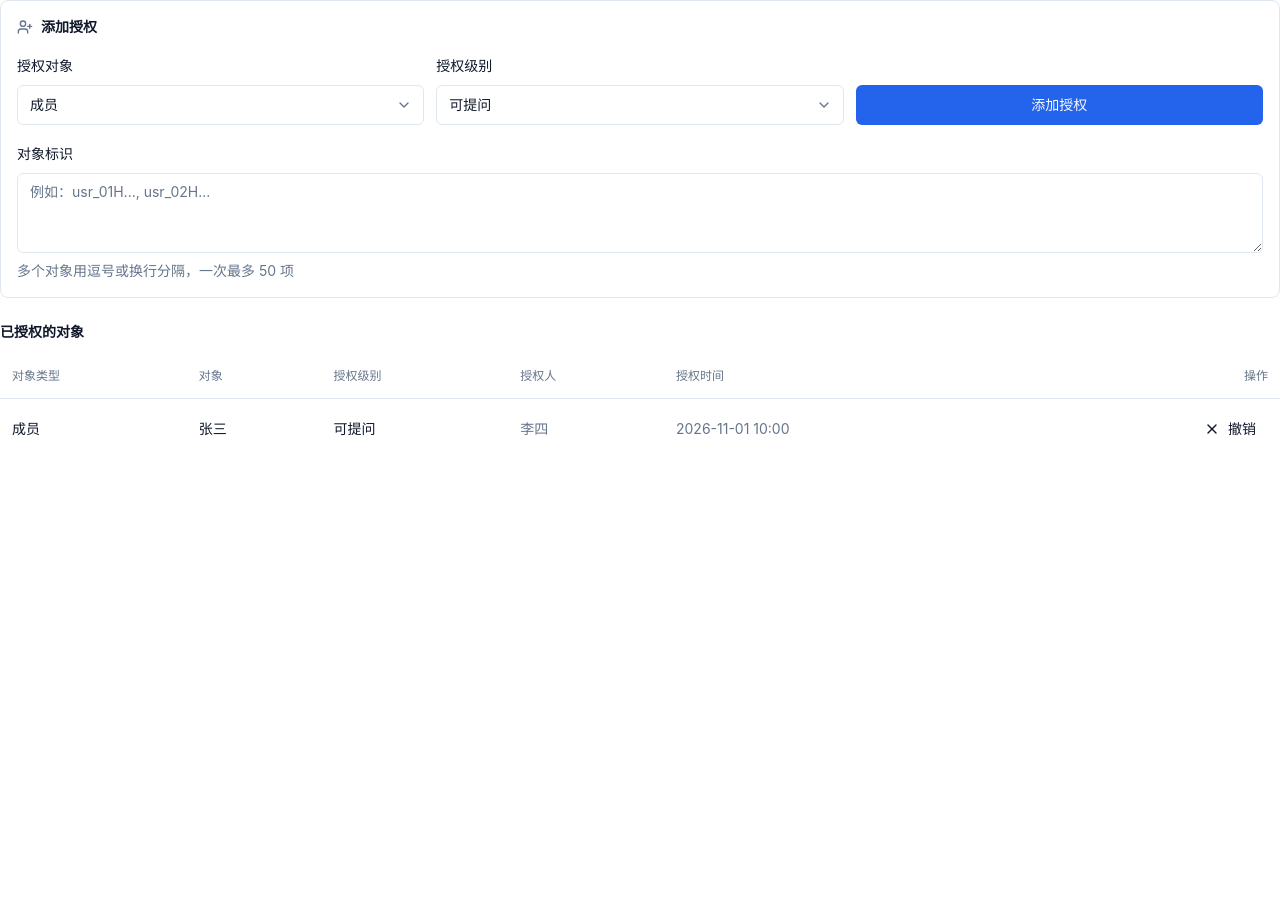
GrantPanel › 撤销走二次确认后才调用
Later steps or results of the test are not shown.
What coordinates should you click on to do the following:
click the button with aria-label "撤销授权 张三"
I would click on:
 (1230, 428)
Its box is [1192, 410, 1268, 446].
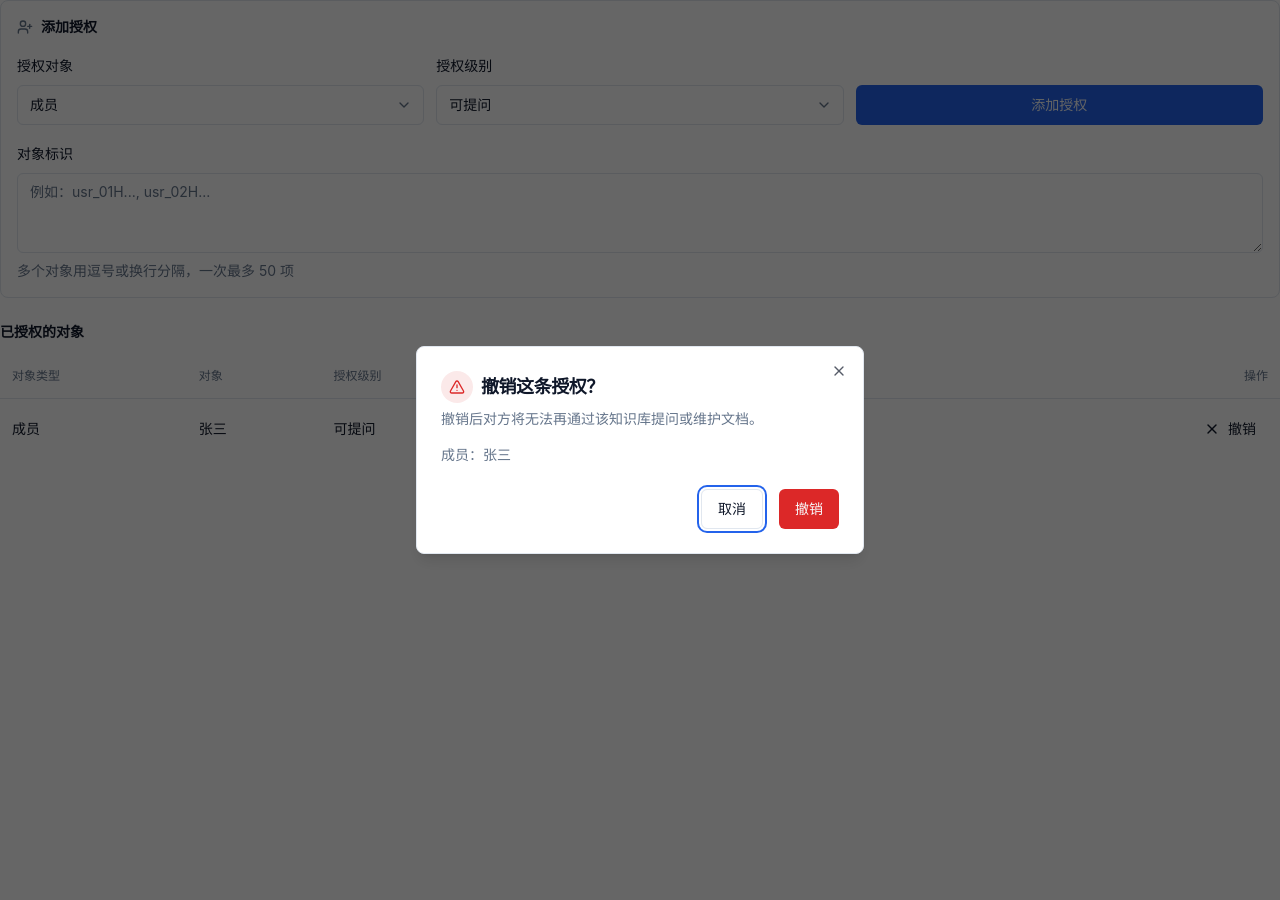
Expected: the text "撤销这条授权？" is shown, [481, 378, 604, 396]
